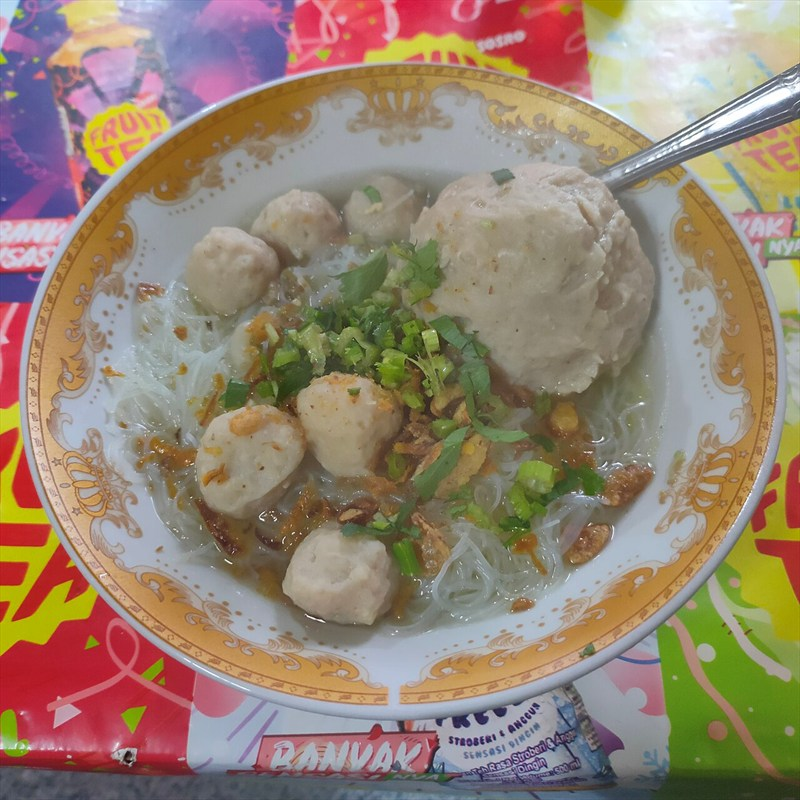Bakso: (24, 16, 776, 768)
